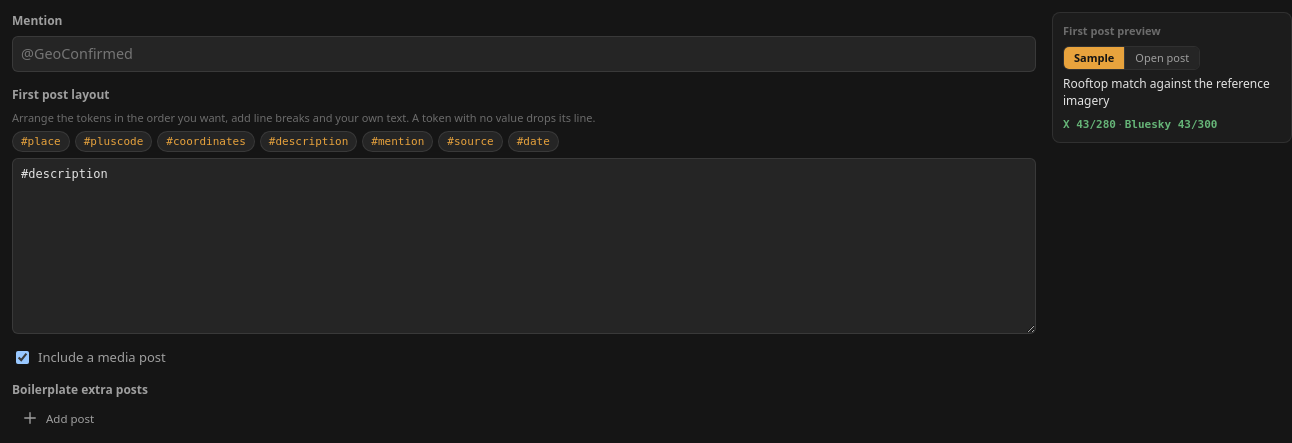
it: the preview › says so when the layout would print nothing
Click the button "Open post": point(1162, 58) [1124,46,1199,69]
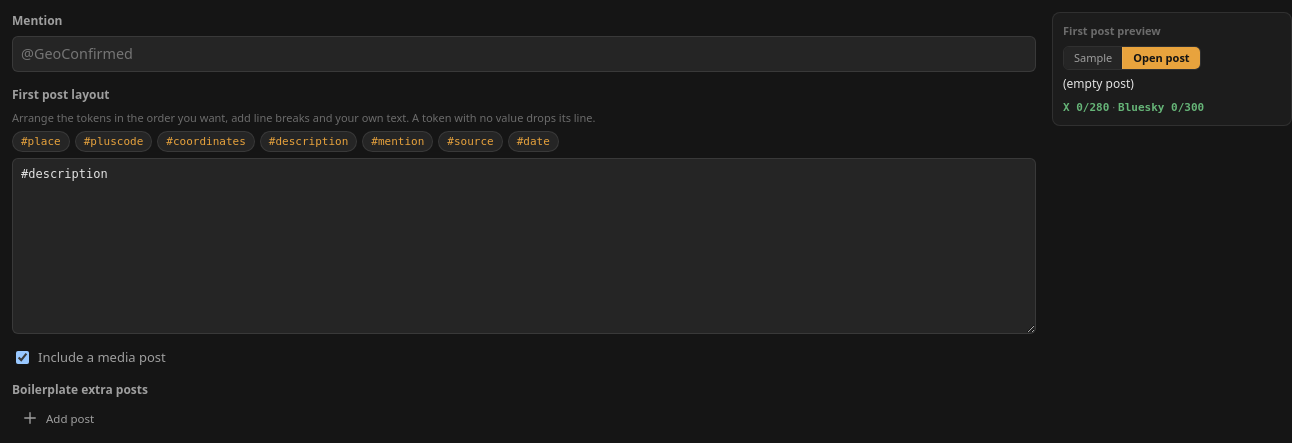
Expected: the text "(empty post)" is shown, [1063,75,1134,92]
